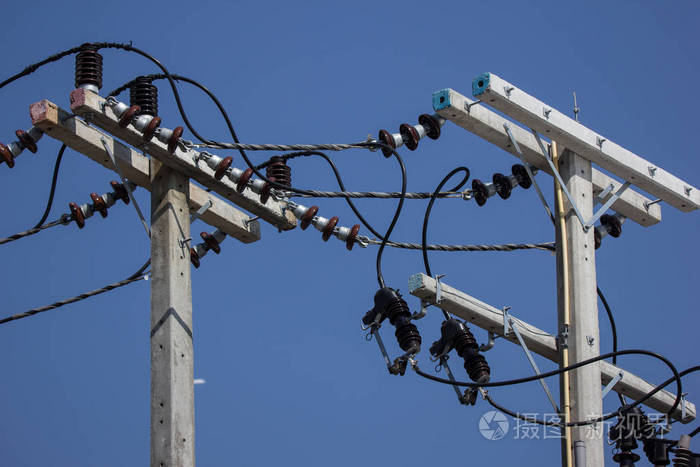insulator: (118, 106, 183, 152), (68, 181, 126, 232), (377, 113, 442, 157), (213, 157, 277, 201), (301, 207, 363, 252), (469, 166, 531, 209), (1, 128, 35, 166), (190, 232, 221, 270), (595, 214, 626, 248)
